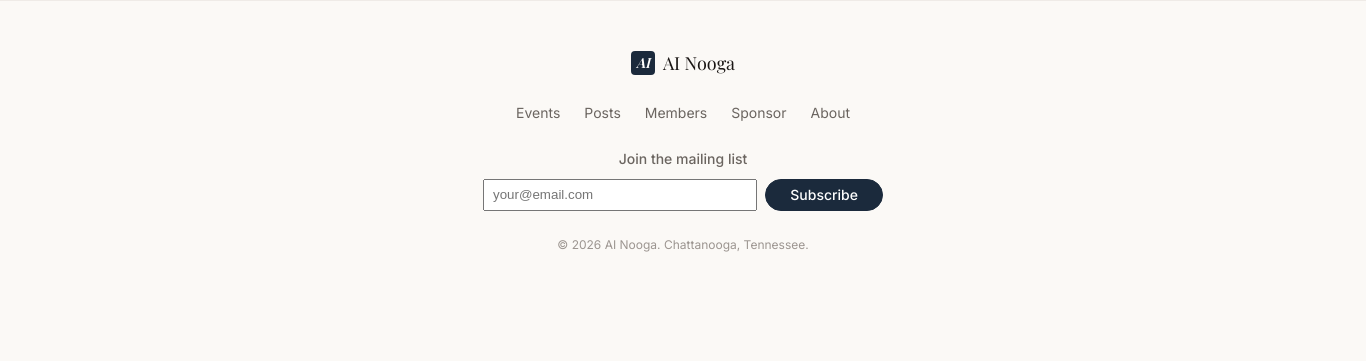
Scenario: SiteFooter newsletter state machine › SUBMITTING → ERROR_NETWORK › shows network error and preserves widget
Type "user@example.com" into the field with id "subscribe-email" at (620, 195), box [483, 179, 757, 211]
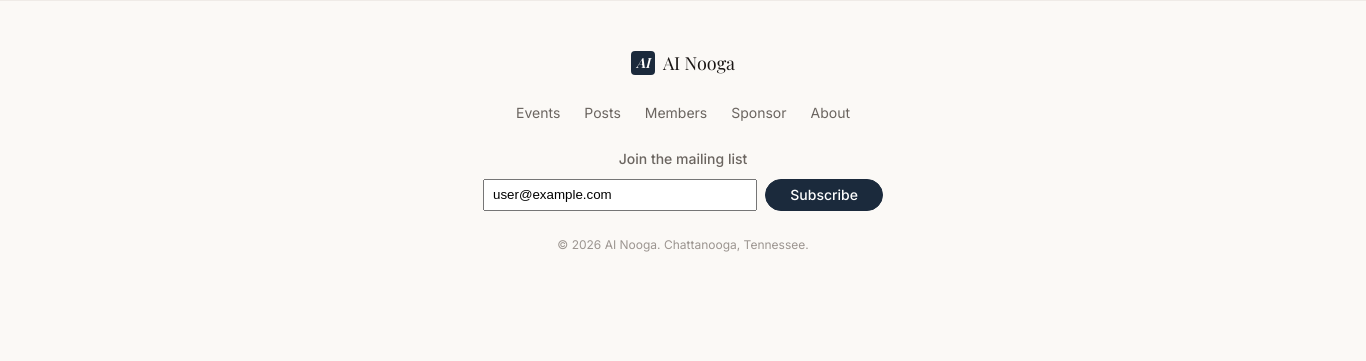
Submit the form with class "site-footer__subscribe", box [483, 148, 883, 211]
Wait 200 ms
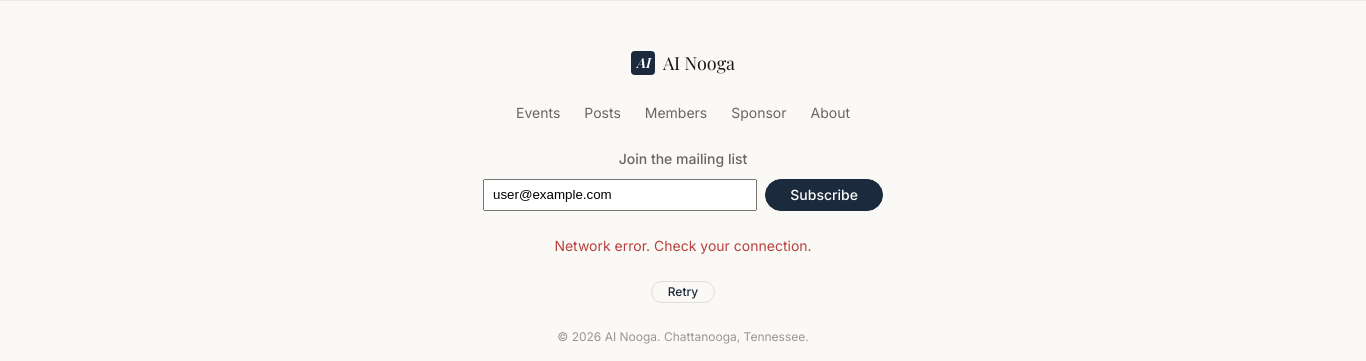
Result: the text with class "error" reads "Network error. Check your connection." at [554, 237, 812, 254]
Result: the button "Retry" is shown at [651, 281, 715, 303]
